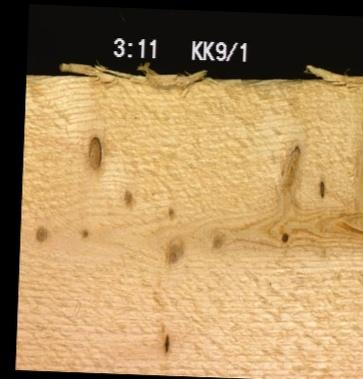dry_knot: (85, 134, 101, 170), (161, 331, 169, 353)
small_knot: (121, 187, 133, 211), (77, 224, 90, 240), (279, 230, 288, 243)
sound_knot: (162, 236, 184, 263), (210, 231, 222, 249), (33, 225, 45, 242), (166, 205, 177, 221)
